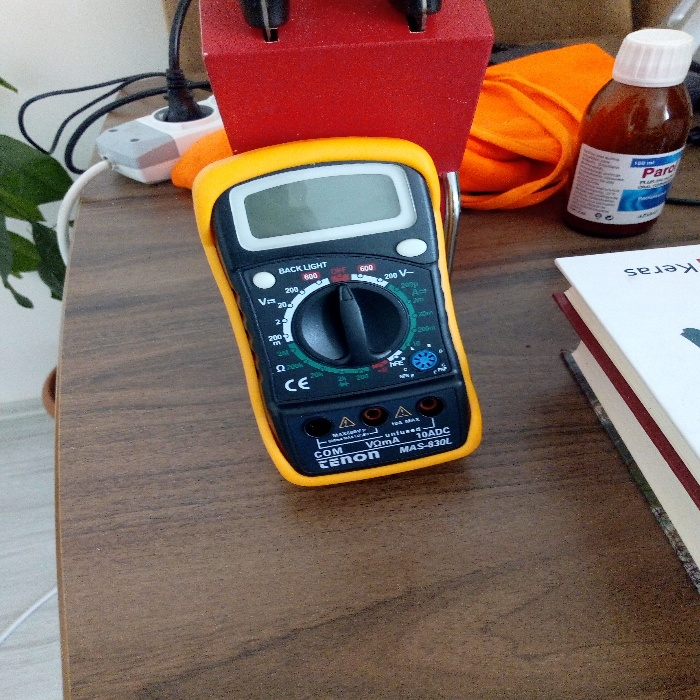multimetre: (195, 105, 492, 469)
